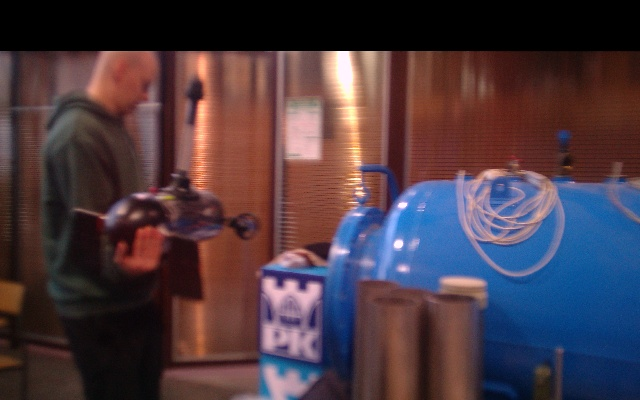black: (175, 118, 196, 175)
